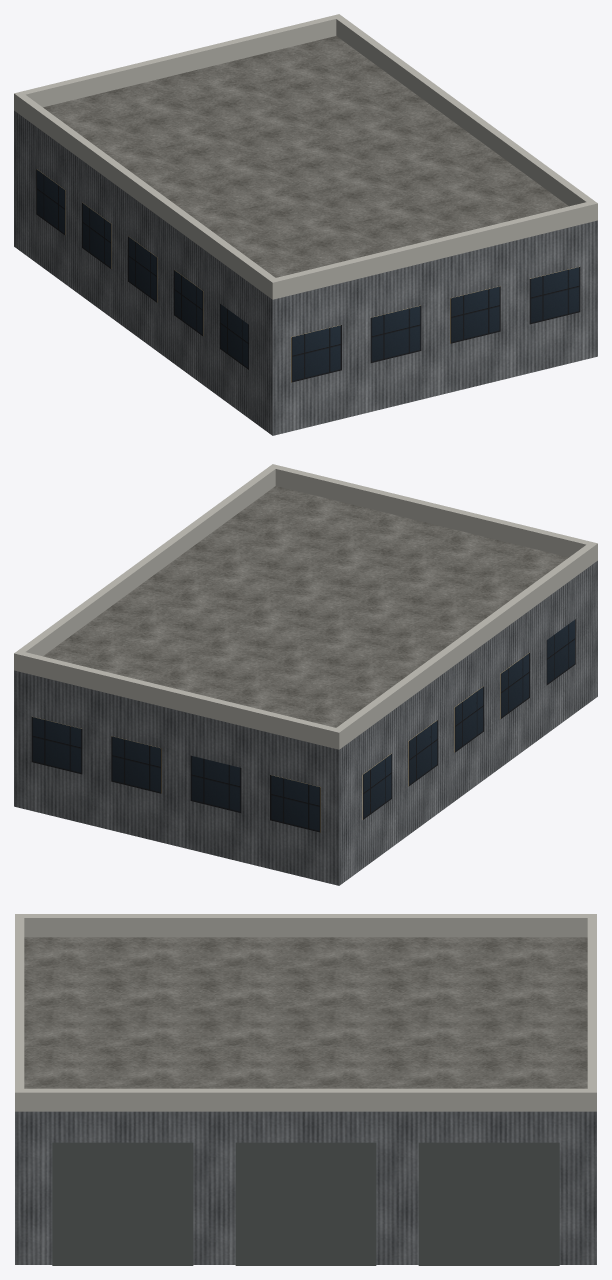
File: let_budova_5.glb
3 renders of one model, top to bottom at view 1: azimuth 30°, elevation 25°; view 2: azimuth 150°, elevation 25°; view 3: azimuth 270°, elevation 25°, orthographic. The views are drawn at different scales.
Parts seen in each view (by area): view 1: dum; view 2: dum; view 3: dum.
Part boxes in pixels (x1,y1,x2,y2): dum: [14, 14, 597, 435]; dum: [14, 464, 597, 885]; dum: [15, 914, 596, 1265].
Size of the model in its own units: 9.07 by 4.05 by 12.44.
Materials: 2 (2 with a texture image).
